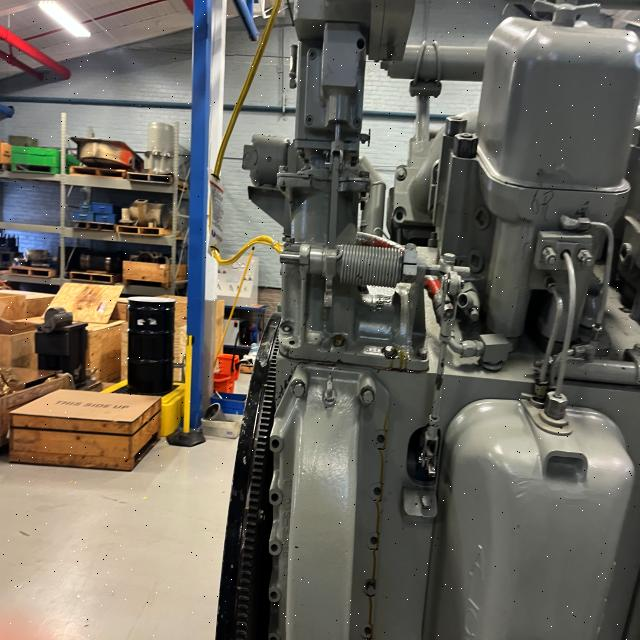Oil Leak: (360, 409, 389, 640), (399, 347, 409, 369)
